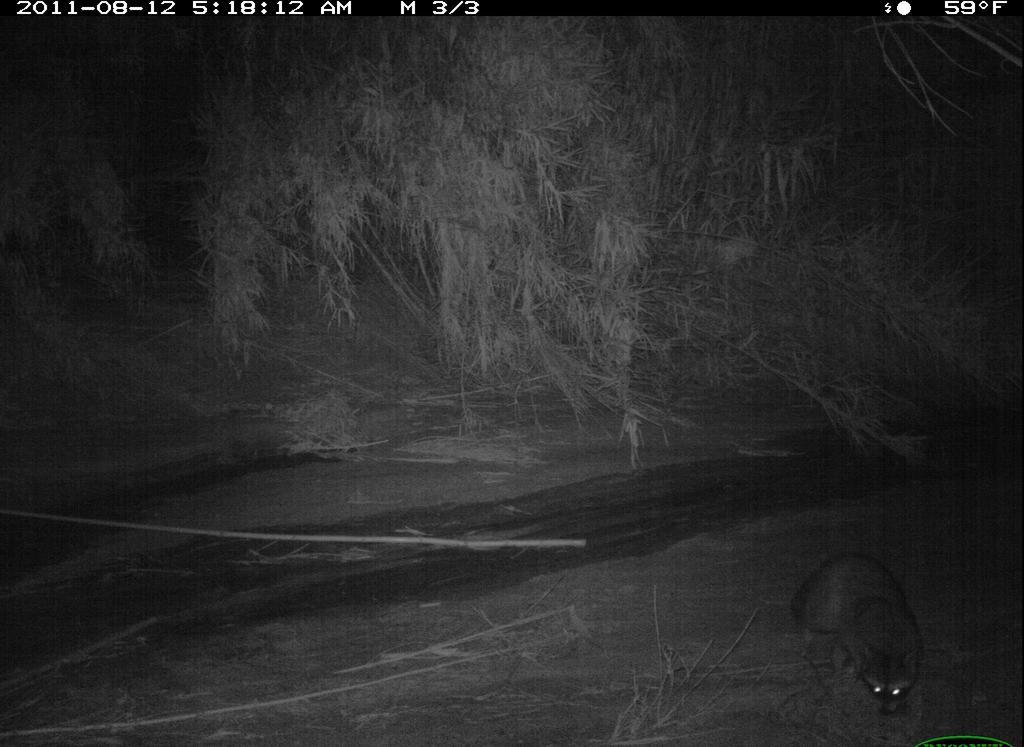raccoon: (770, 538, 943, 726)
